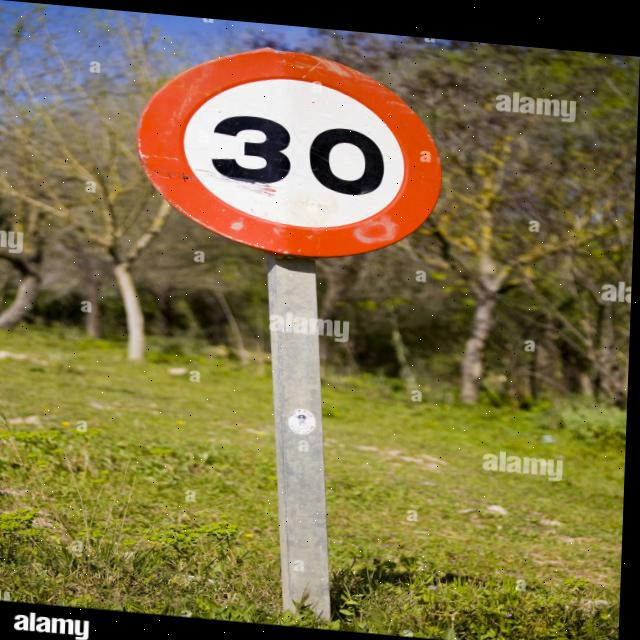Speed limit 30: (132, 33, 450, 264)
